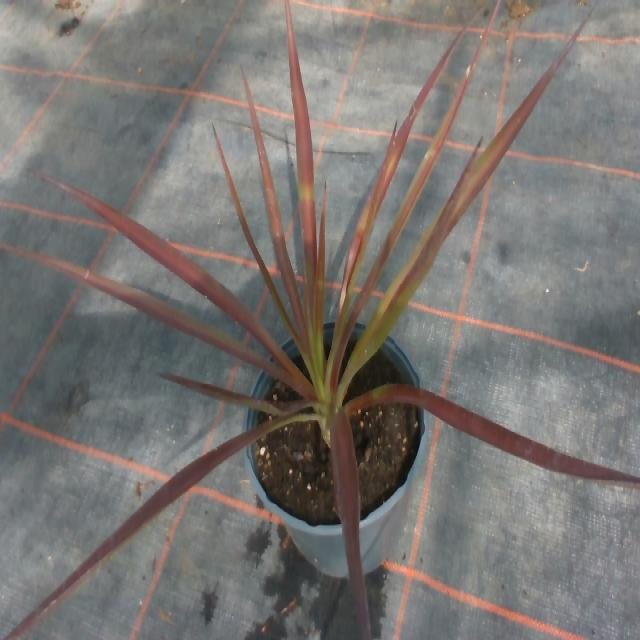Yucca-aloifolia: (340, 17, 587, 391), (5, 423, 274, 639), (34, 172, 292, 371), (338, 25, 467, 319), (349, 48, 480, 321), (7, 248, 287, 373), (345, 384, 639, 484), (243, 71, 308, 351), (214, 127, 295, 341), (331, 409, 370, 639), (285, 0, 316, 284), (160, 373, 309, 413), (315, 184, 325, 380)
